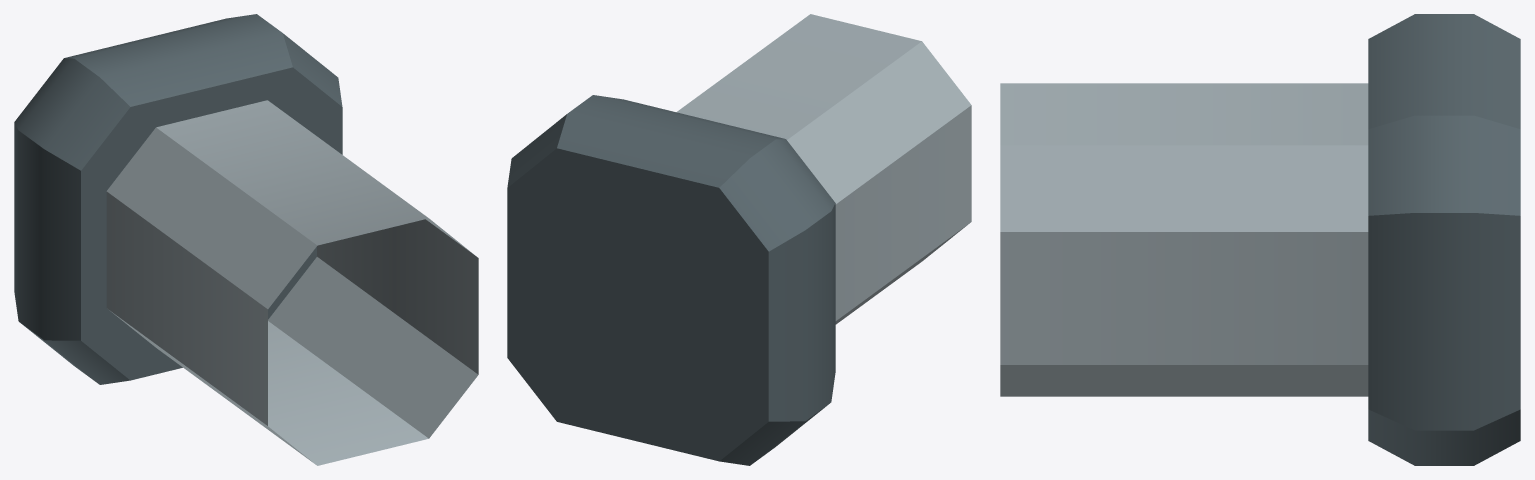
File: GGDe.fbx
3 renders of one model, left to right at view 1: azimuth 30°, elevation 25°; view 2: azimuth 150°, elevation 25°; view 3: azimuth 270°, elevation 25°, orthographic. The views are drawn at different scales.
Parts seen in each view (by area): view 1: Pillar 01.001; view 2: Pillar 01.001; view 3: Pillar 01.001.
Part boxes in pixels (bbox=[...]): Pillar 01.001: bbox=[14, 14, 478, 465]; Pillar 01.001: bbox=[507, 14, 971, 465]; Pillar 01.001: bbox=[1000, 14, 1520, 465].
Bounding box in the file's own units: 69.86 × 69.86 × 93.95.
